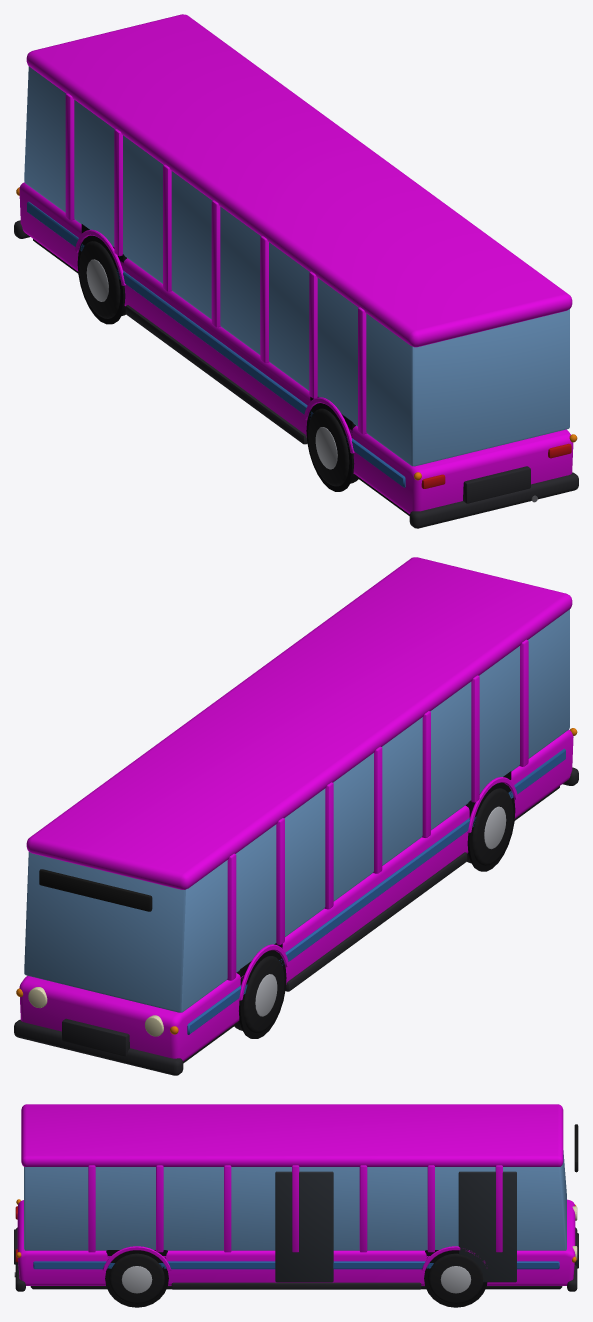
File: MetroBus_Player.fbx
3 renders of one model, top to bottom at view 1: azimuth 30°, elevation 25°; view 2: azimuth 150°, elevation 25°; view 3: azimuth 270°, elevation 25°, orthographic. The views are drawn at different scales.
Parts seen in each view (by area): view 1: MetroBus_Player; view 2: MetroBus_Player; view 3: MetroBus_Player.
Part boxes in pixels (left/top/right/bottom): MetroBus_Player: left=14, top=14, right=578, bottom=528; MetroBus_Player: left=14, top=557, right=578, bottom=1075; MetroBus_Player: left=14, top=1104, right=578, bottom=1307.
Size of the model in its own units: 2.57 by 3.11 by 10.63.
